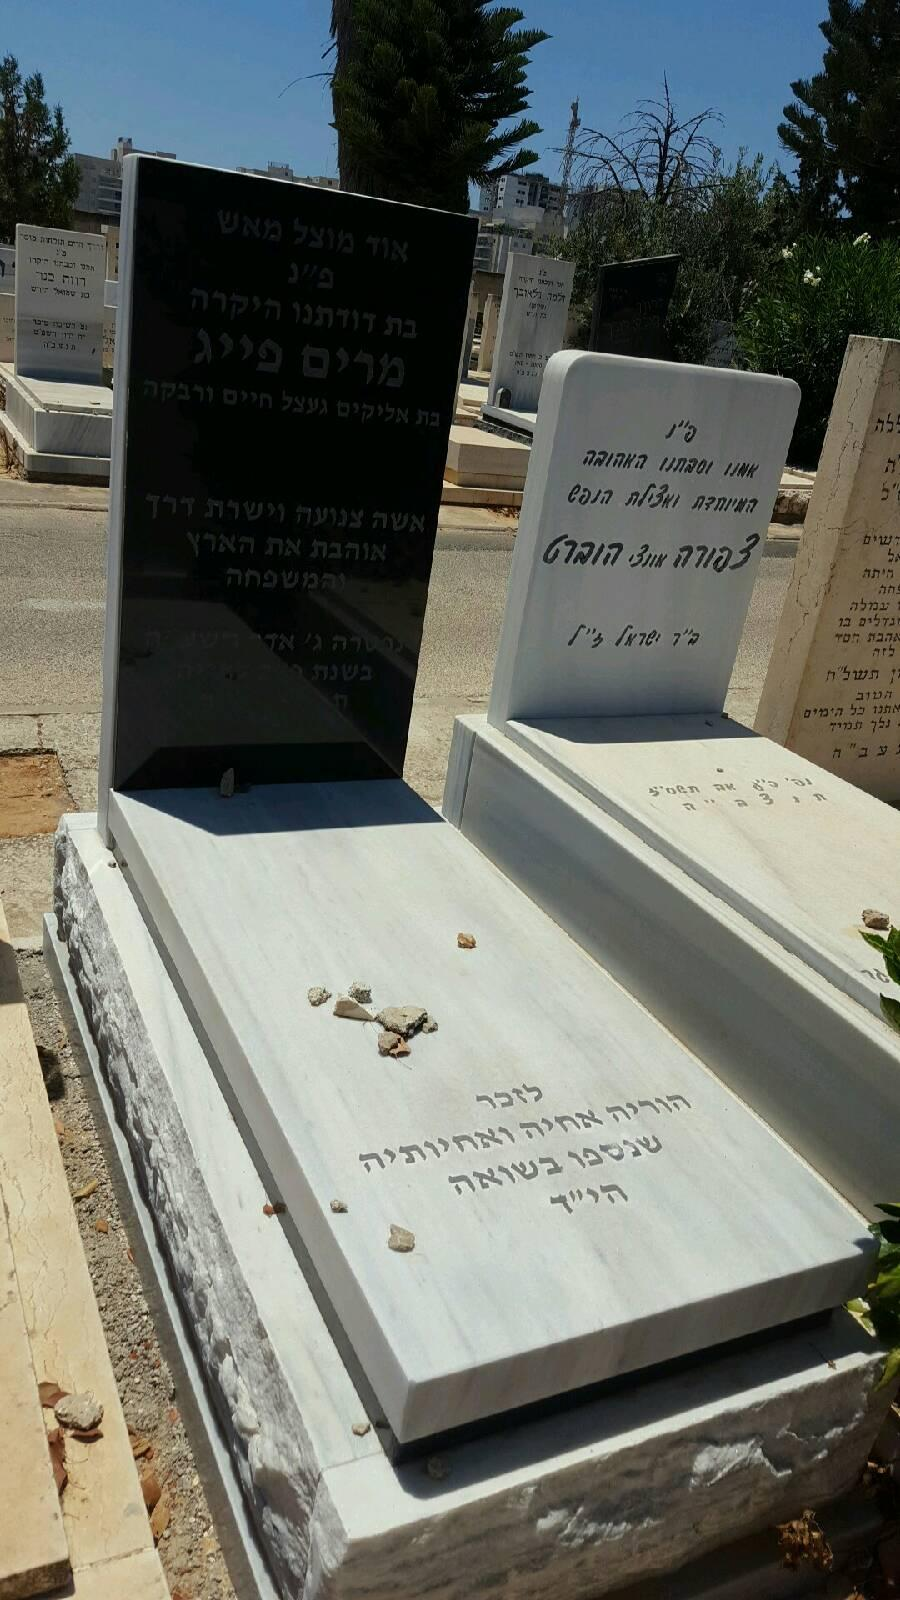vault: (44, 131, 900, 1580)
